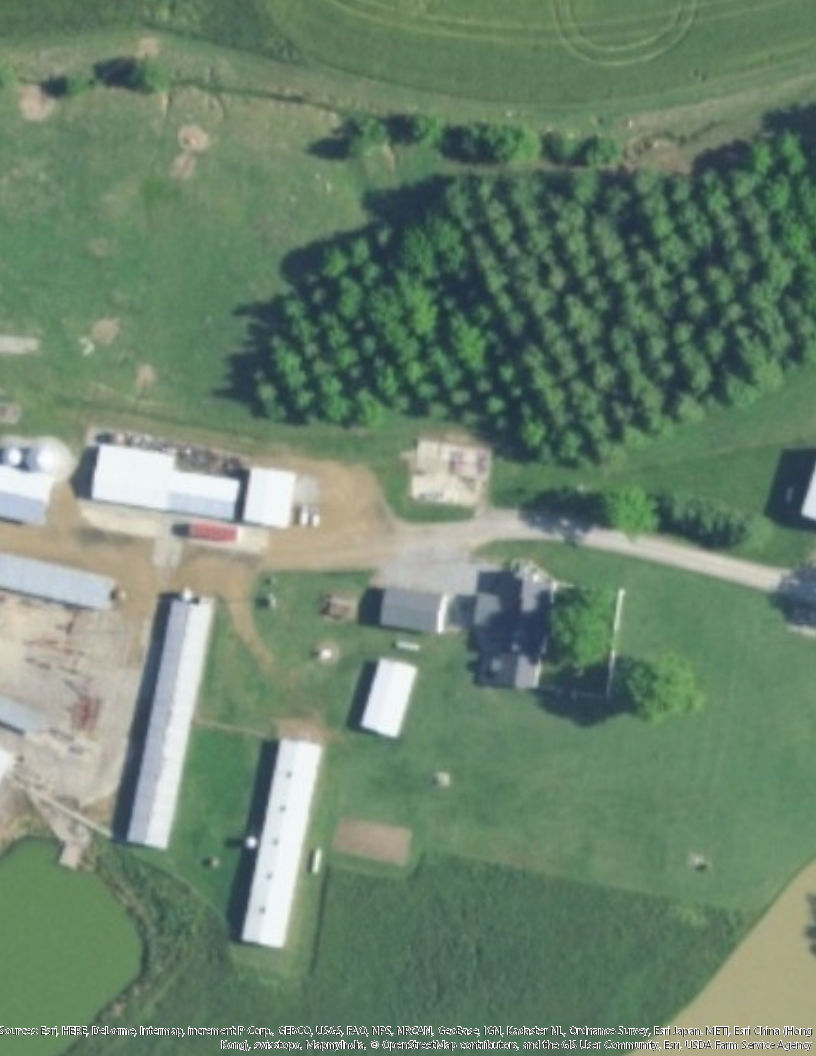cafo: (120, 596, 216, 849), (87, 441, 299, 535), (239, 736, 324, 950)
